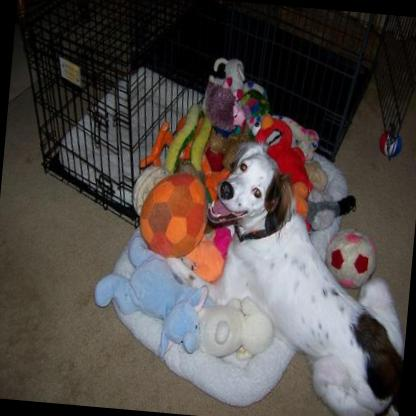English_setter: (186, 140, 416, 416)
